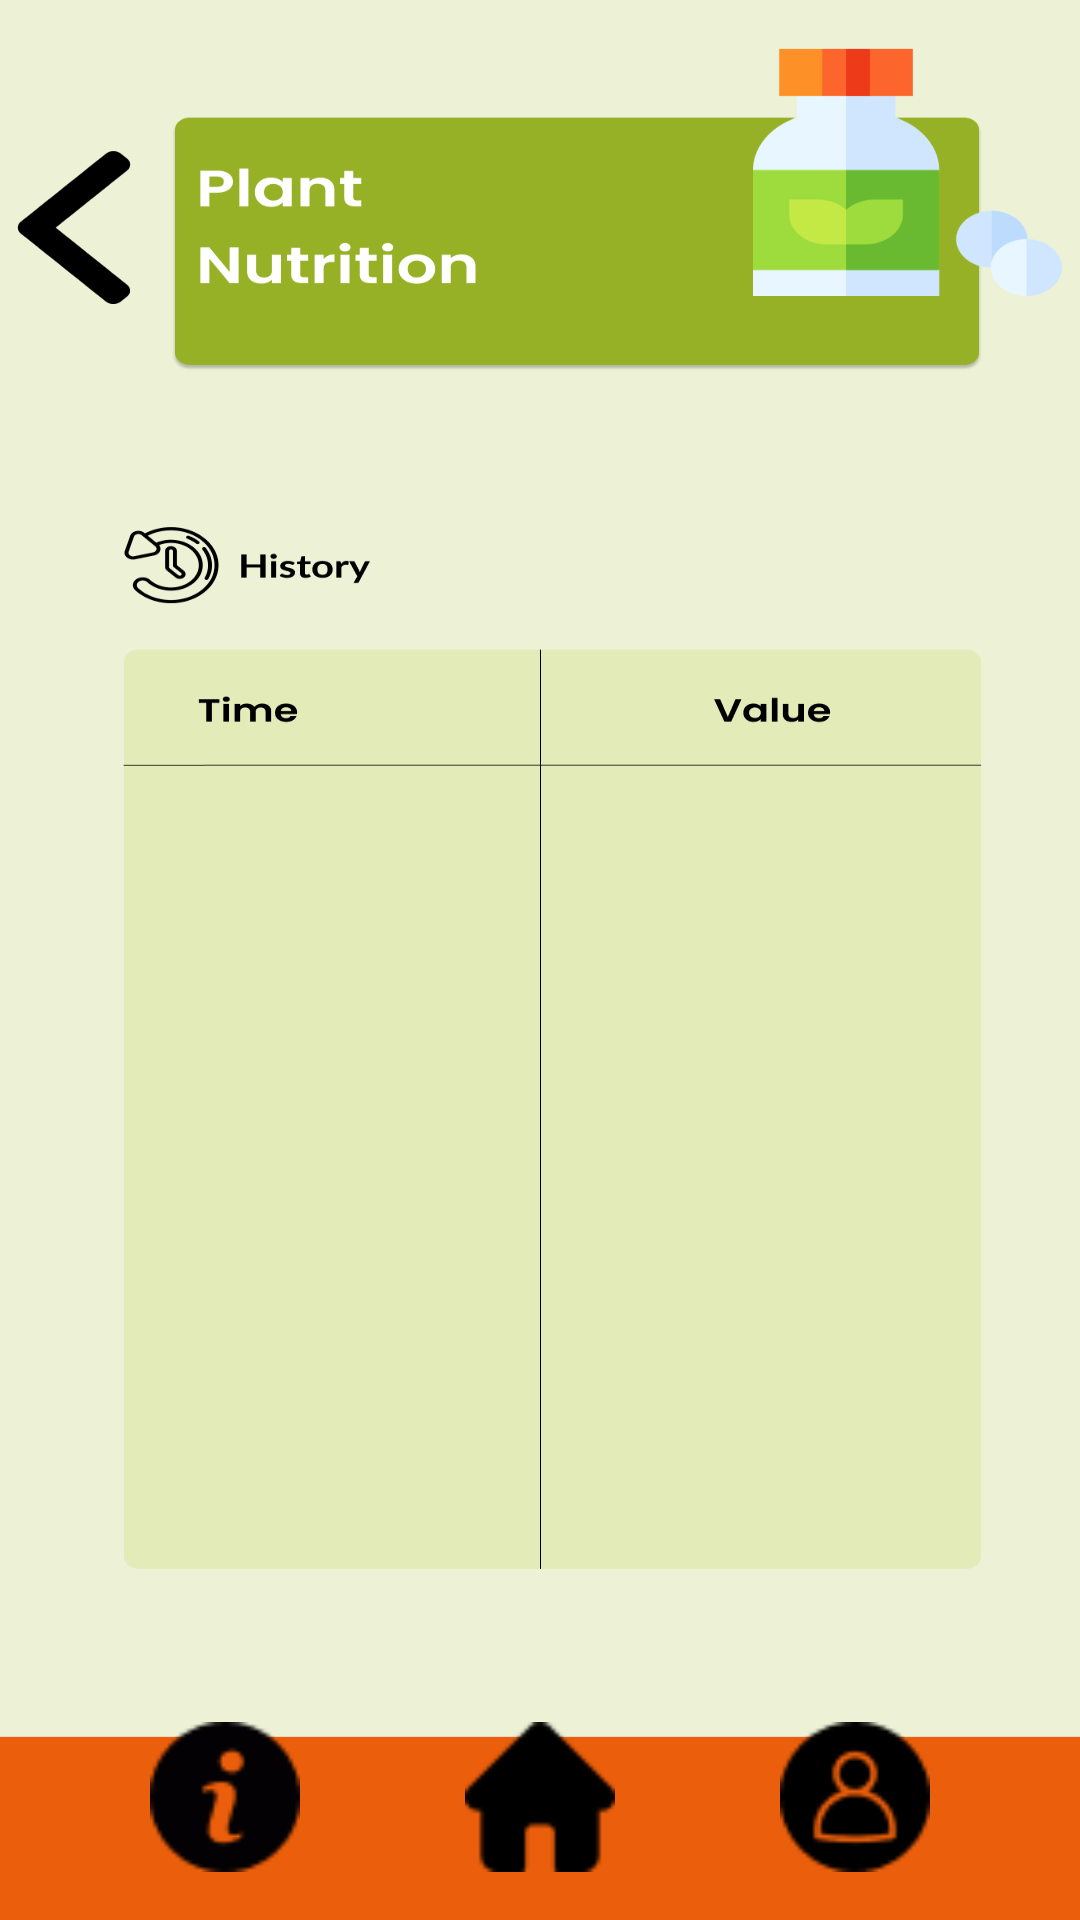

Point at icon controls on the screen. Image size 1080 x 1920, points as (x=x, y=y).
home: (x=540, y=1797)
information: (x=225, y=1797)
profile: (x=855, y=1797)
